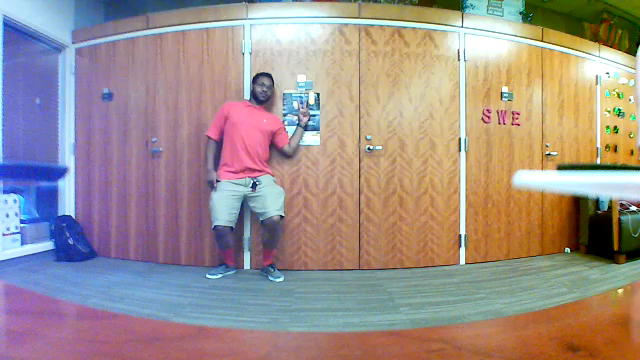peace: (294, 96, 314, 125)
